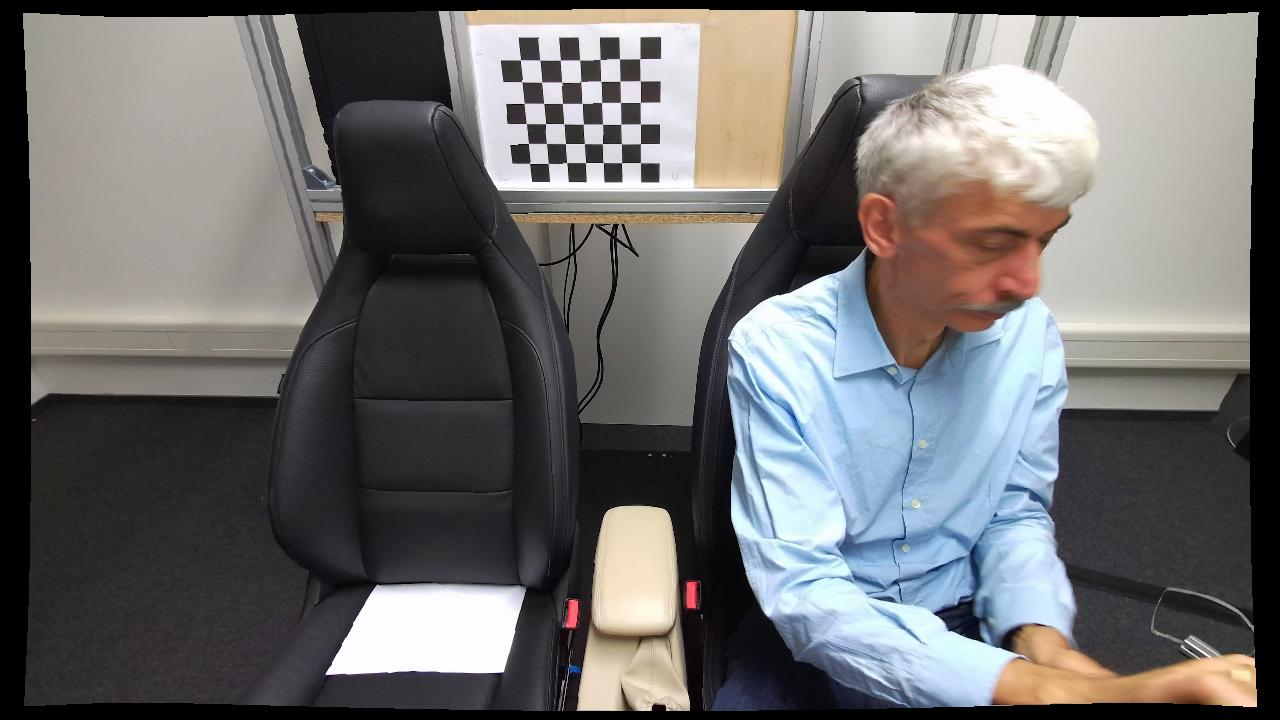Distracted: (706, 60, 1190, 716)
